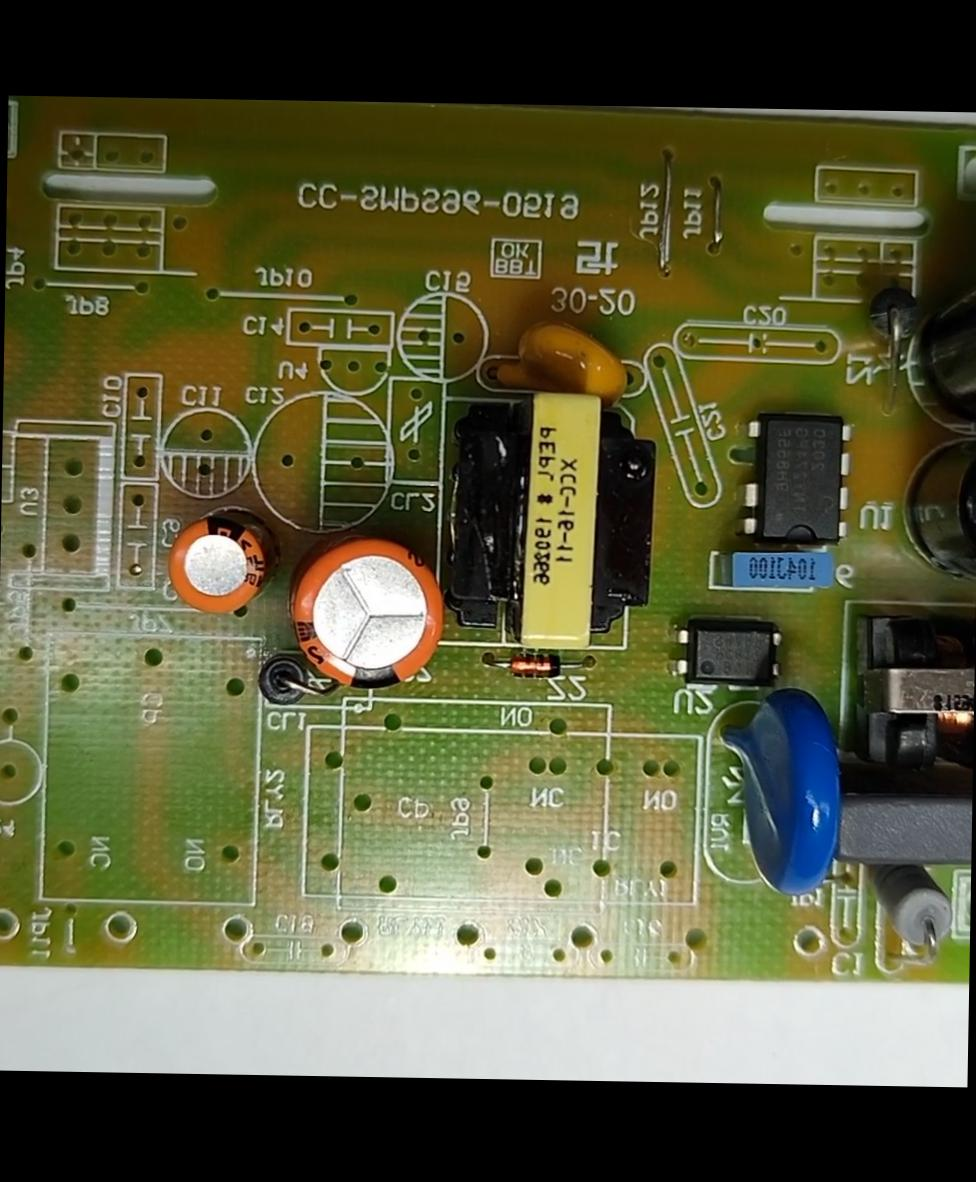Cap1: (288, 542, 447, 686)
Cap2: (162, 514, 268, 618)
Cap3: (901, 429, 975, 585)
Cap4: (911, 239, 975, 406)
MOSFET: (737, 412, 857, 544)
Mov: (716, 682, 844, 898)
Resistor: (863, 864, 955, 952)
Transformer: (446, 386, 661, 652), (851, 596, 975, 785)
